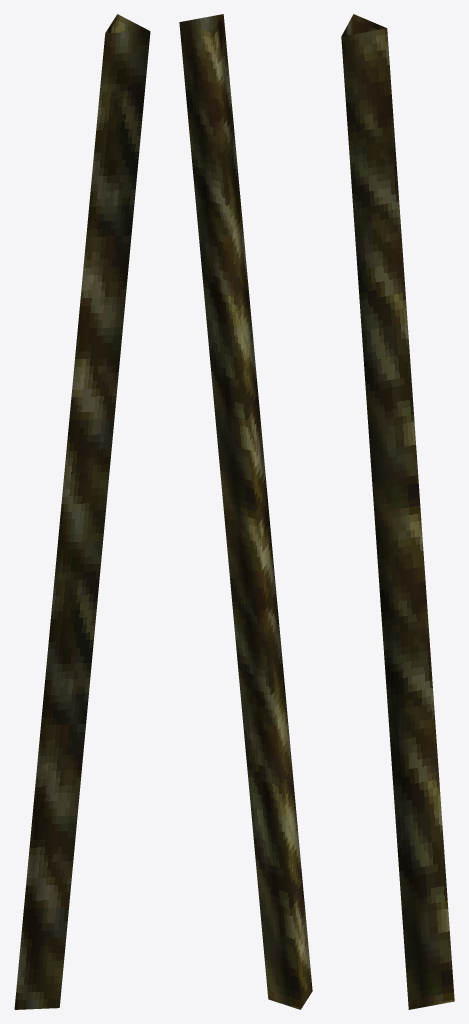
File: OVERHILL_A_01_ROPE_LINE_13.fbx
The picture shows the model from 3 angles, left to right: view 1: azimuth 30°, elevation 25°; view 2: azimuth 210°, elevation 25°; view 3: azimuth 270°, elevation 25°; orthographic projection. The views are drawn at different scales.
Visible parts, largest first — view 1: OVERHILL_A_01_ROPE_LINE_13; view 2: OVERHILL_A_01_ROPE_LINE_13; view 3: OVERHILL_A_01_ROPE_LINE_13.
Boxes of the visible parts, box(x1,y1,x2,y2) form: OVERHILL_A_01_ROPE_LINE_13: box(14, 14, 150, 1009); OVERHILL_A_01_ROPE_LINE_13: box(179, 14, 312, 1009); OVERHILL_A_01_ROPE_LINE_13: box(341, 14, 454, 1009).
Size of the model in its own units: 1124 by 10995 by 1124.
Materials: 1 (1 with a texture image).
